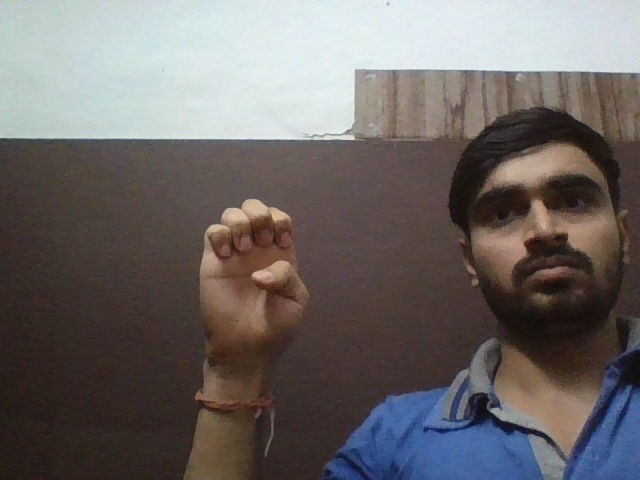E: (175, 191, 318, 360)
